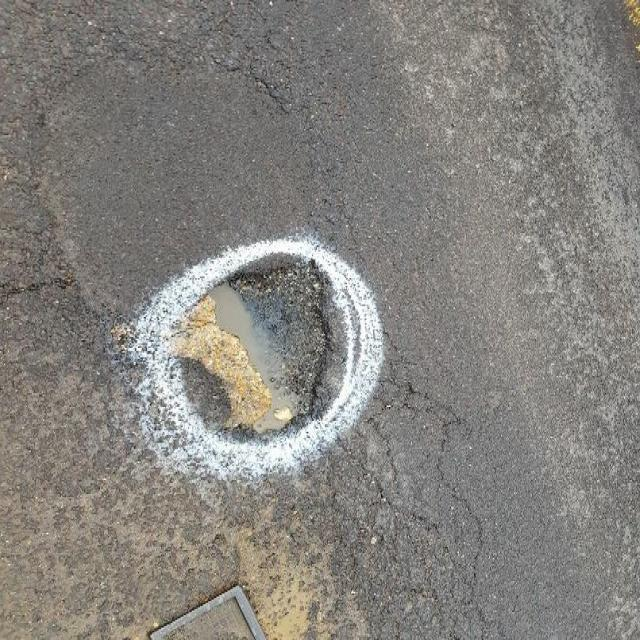Pothole: (167, 251, 338, 450)
